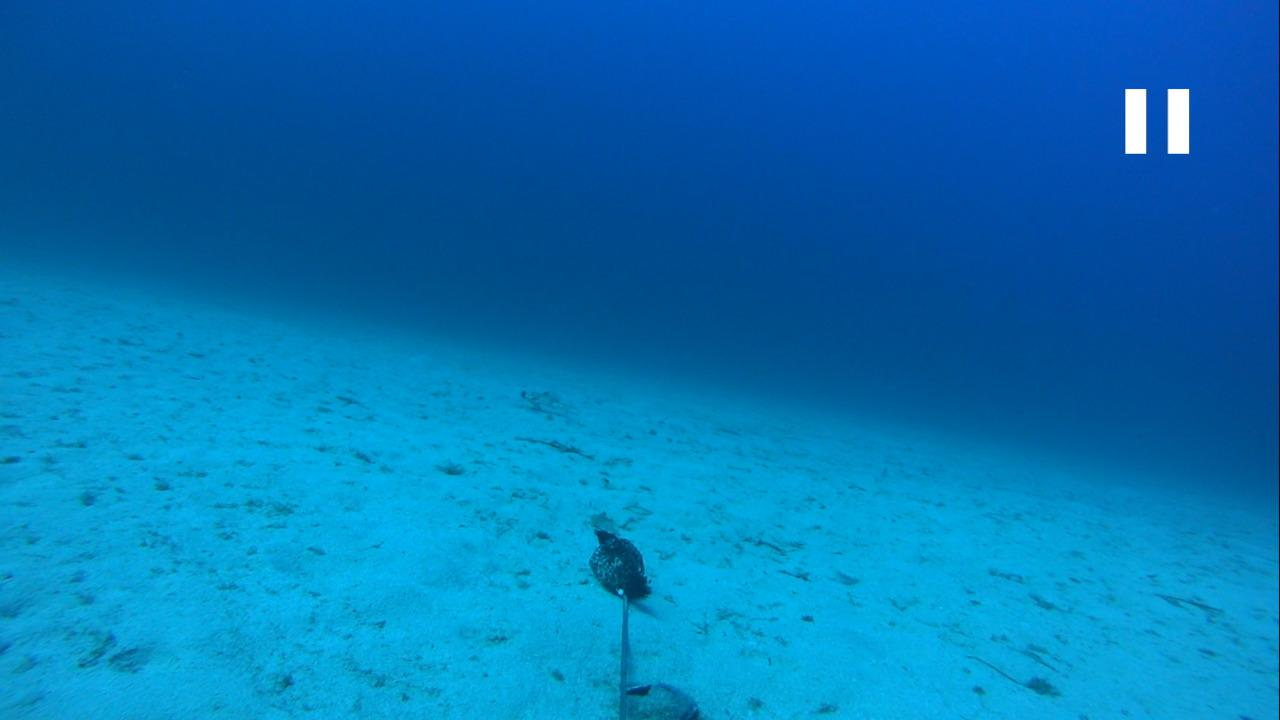dactylopterus: (503, 378, 579, 421)
